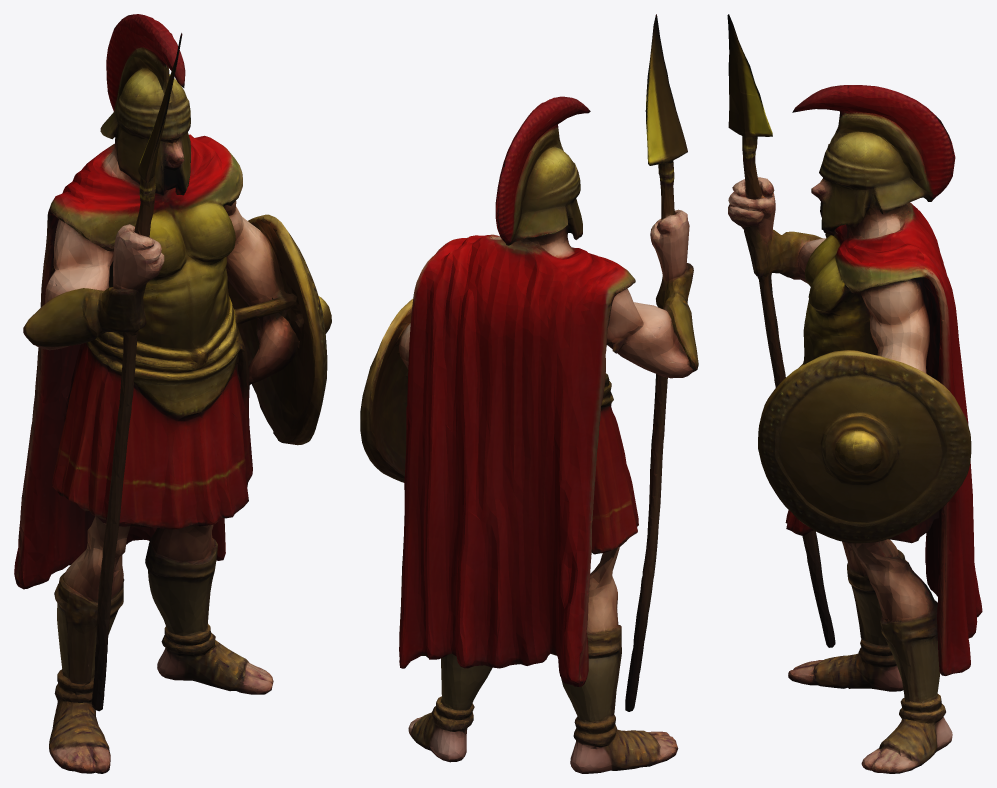
The model's file is model.trellis.glb.
3 views of the same model, side by side, from view 1: azimuth 30°, elevation 25°; view 2: azimuth 150°, elevation 25°; view 3: azimuth 270°, elevation 25° (orthographic). The views are drawn at different scales.
Parts seen in each view (by area): view 1: world; view 2: world; view 3: world.
Boxes of the visible parts, bbox=[...] form: world: bbox=[14, 14, 331, 773]; world: bbox=[360, 14, 698, 773]; world: bbox=[727, 14, 982, 773].
Size of the model in its own units: 0.4403 by 0.9959 by 0.3361.
Materials: 1 (1 with a texture image).
